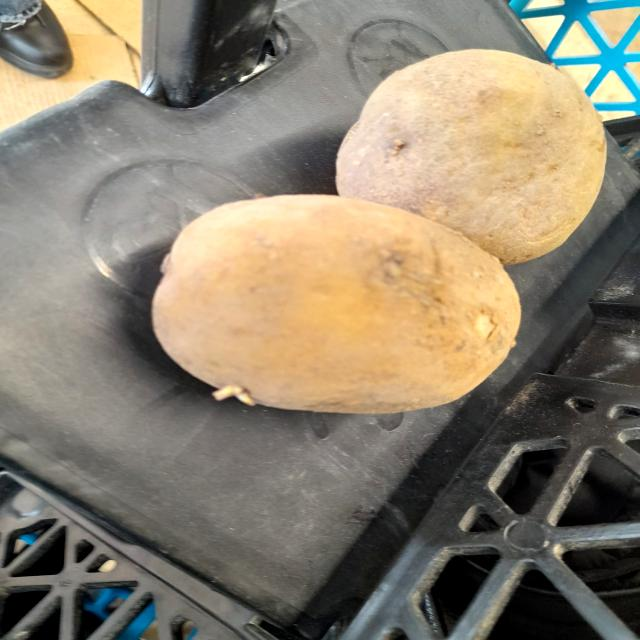potato: (168, 168, 525, 424), (338, 32, 626, 262)
